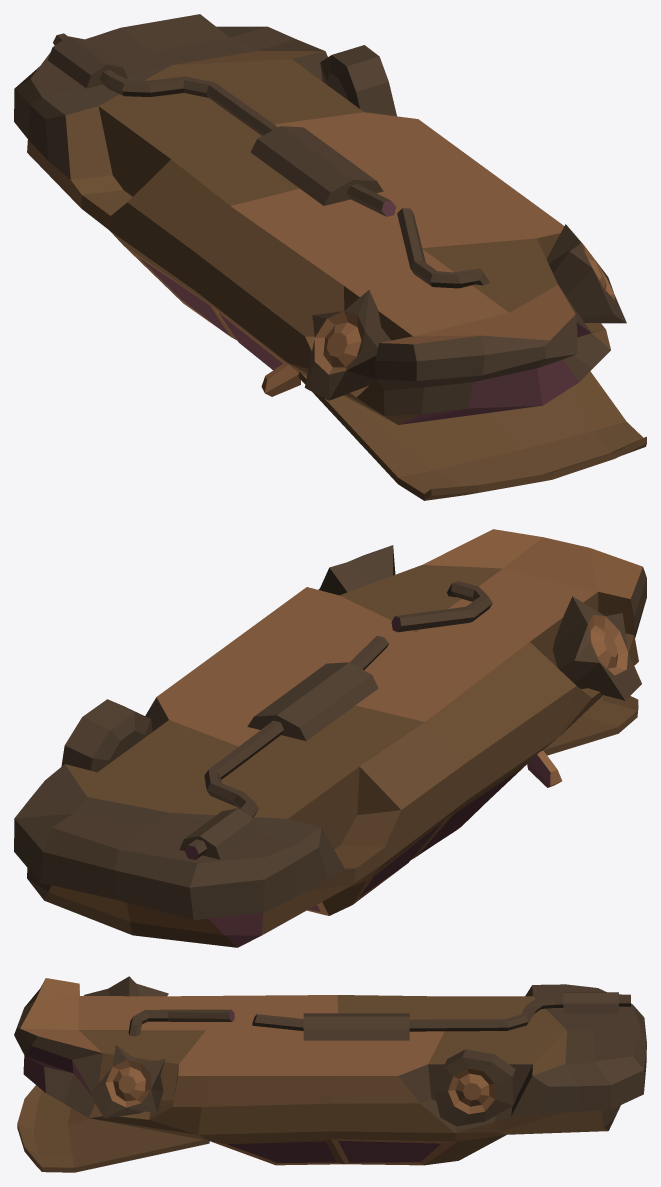
The model's file is car-destroyed-apocalypse.fbx.
3 views of the same model, one above another, from view 1: azimuth 30°, elevation 25°; view 2: azimuth 150°, elevation 25°; view 3: azimuth 270°, elevation 25° (orthographic). The views are drawn at different scales.
Visible parts, largest first — view 1: car-destroyed-apocalypse; view 2: car-destroyed-apocalypse; view 3: car-destroyed-apocalypse.
Part boxes in pixels (x1,y1,x2,y2): car-destroyed-apocalypse: (14,14,646,500); car-destroyed-apocalypse: (14,529,646,947); car-destroyed-apocalypse: (14,976,646,1172).
Size of the model in its own units: 2.18 by 1.15 by 5.21.
